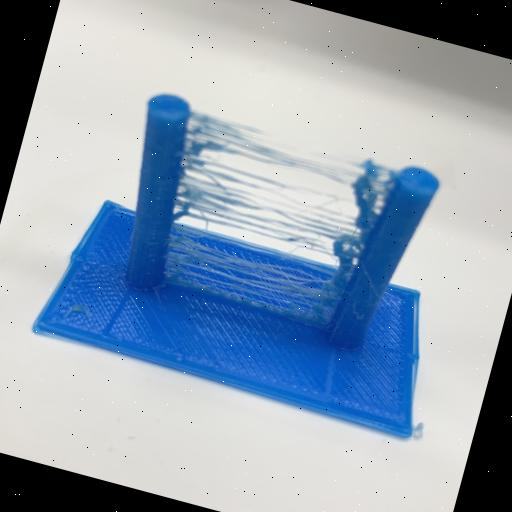stringing: (161, 110, 390, 330)
